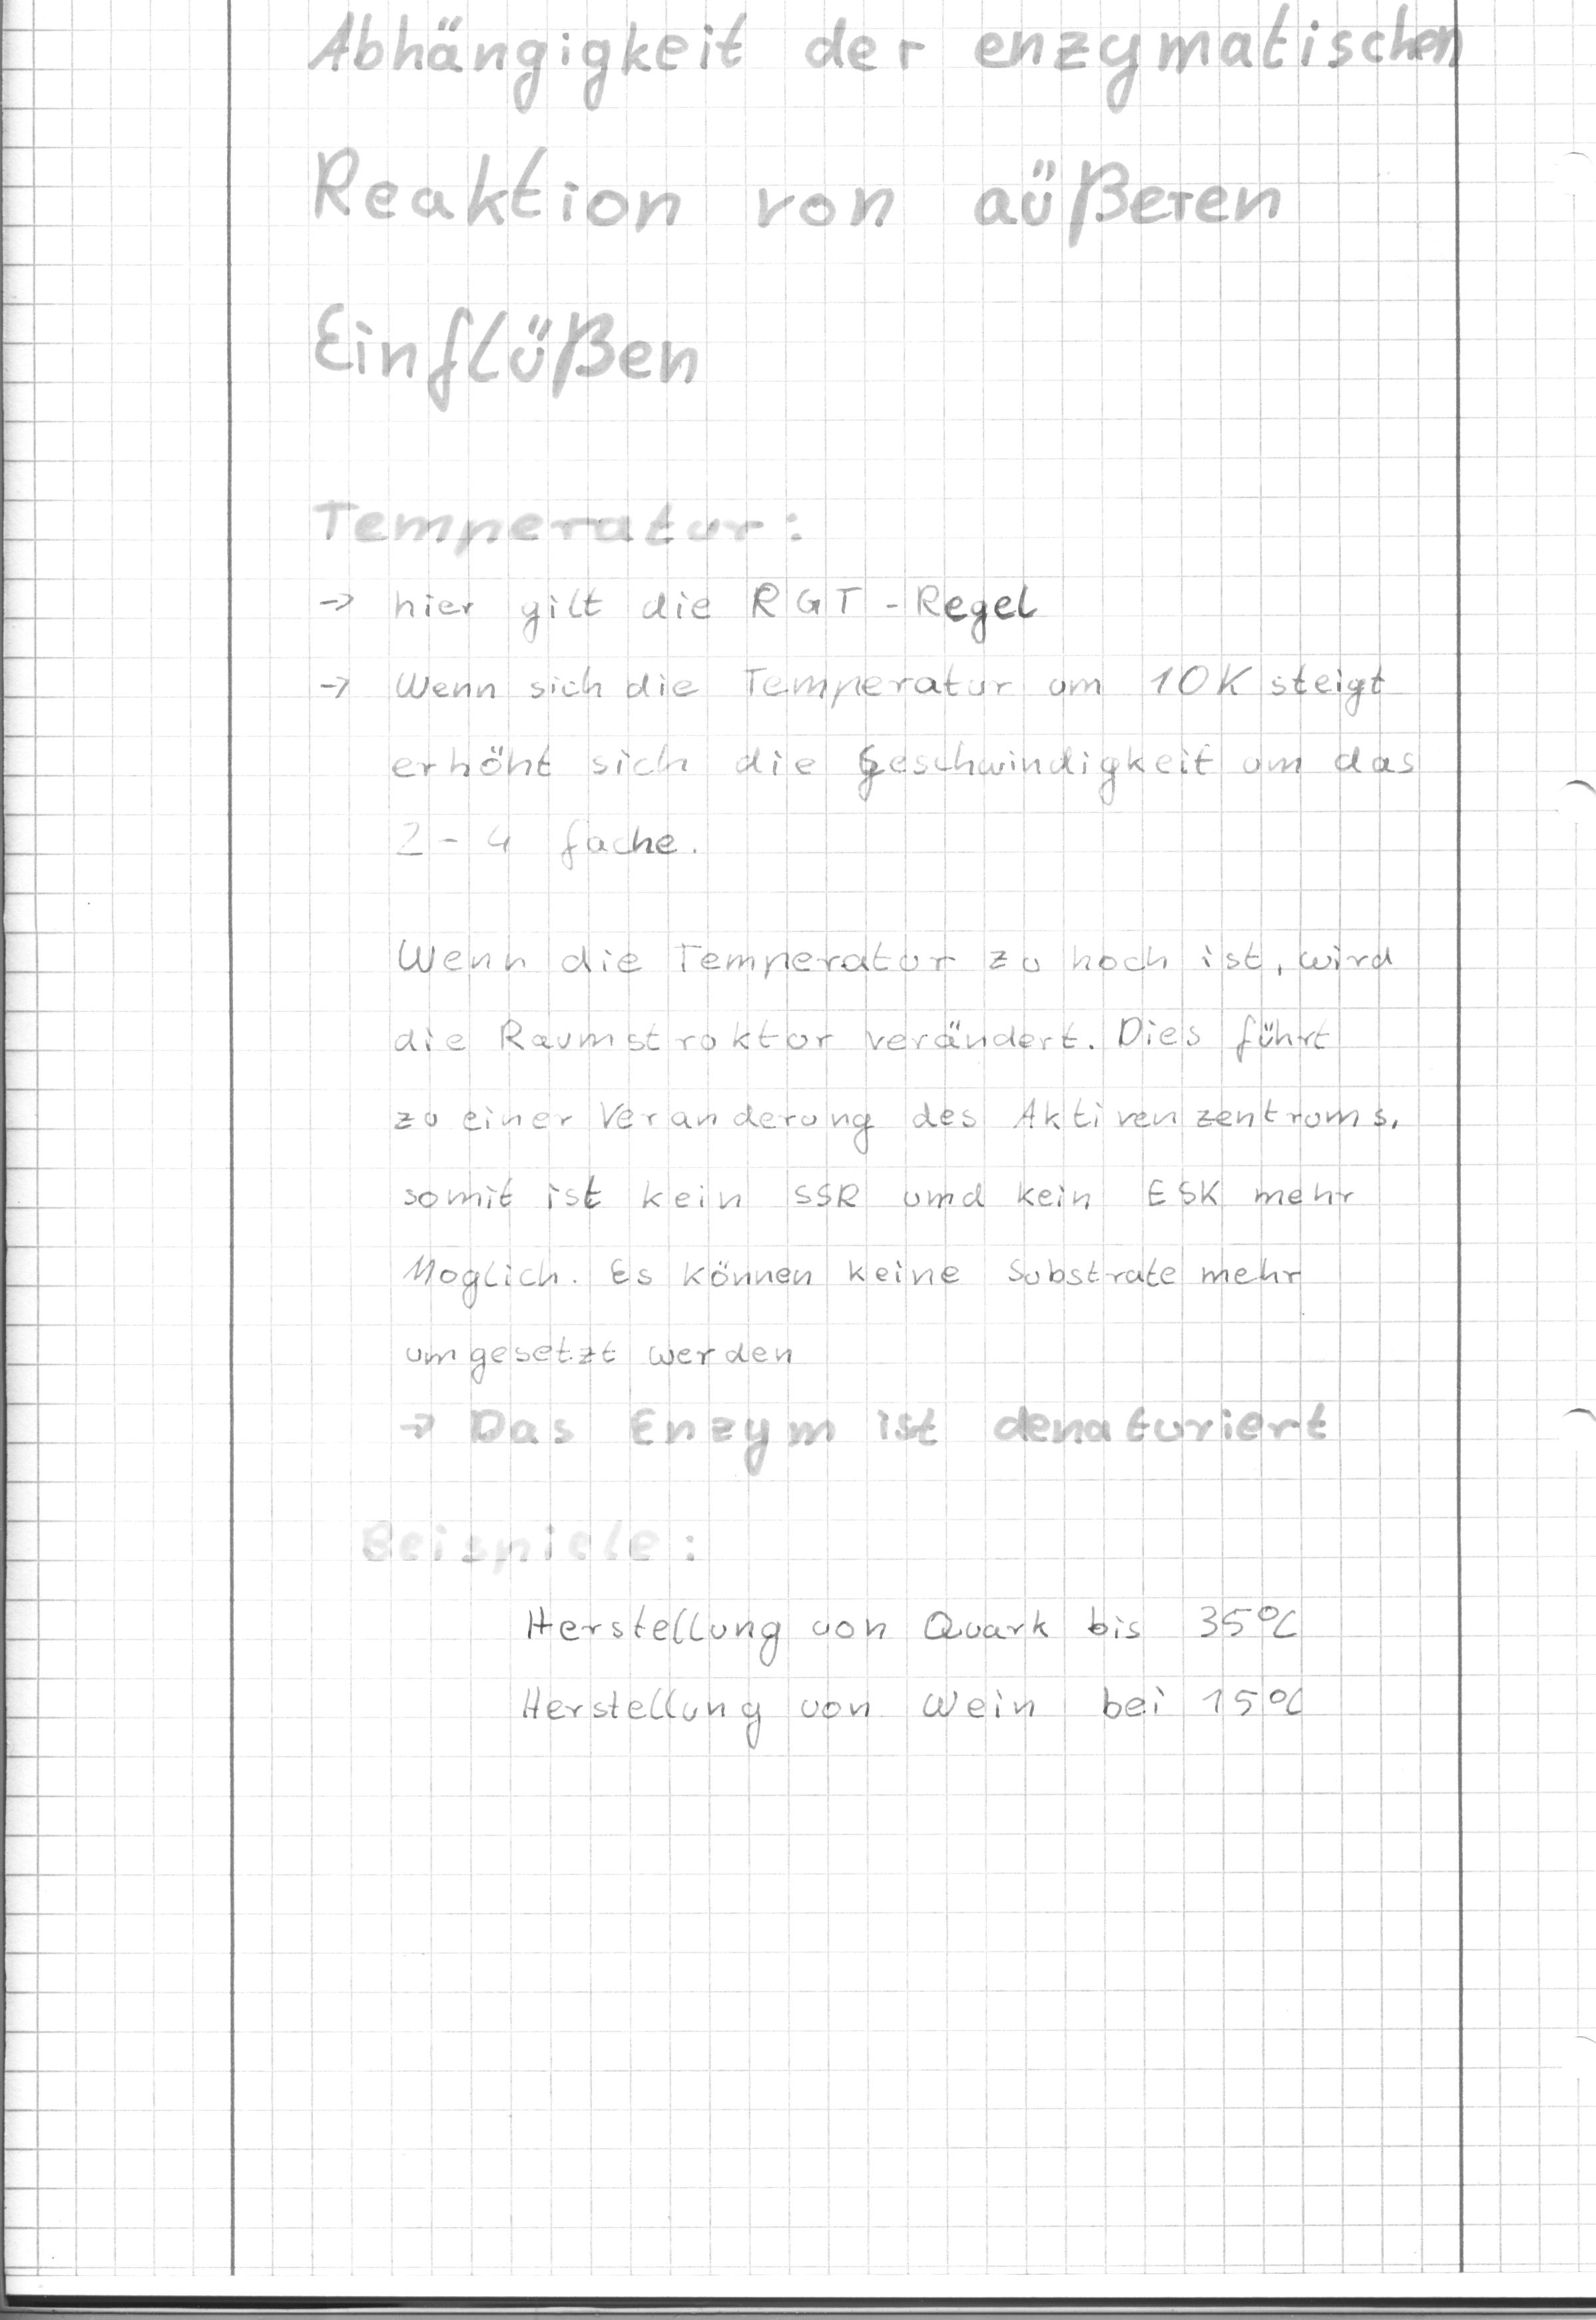word: (381, 922, 1414, 1391), (380, 575, 1426, 878), (511, 1591, 1318, 1766)
